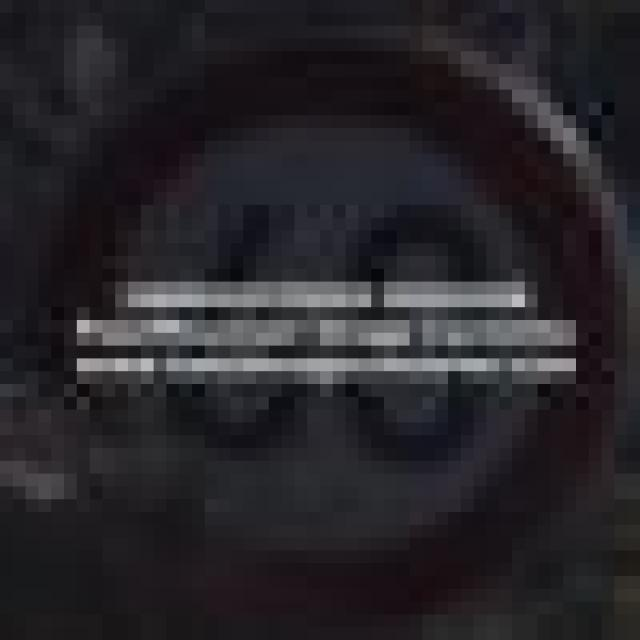SPEED_LIMIT_60: (64, 38, 602, 576)
